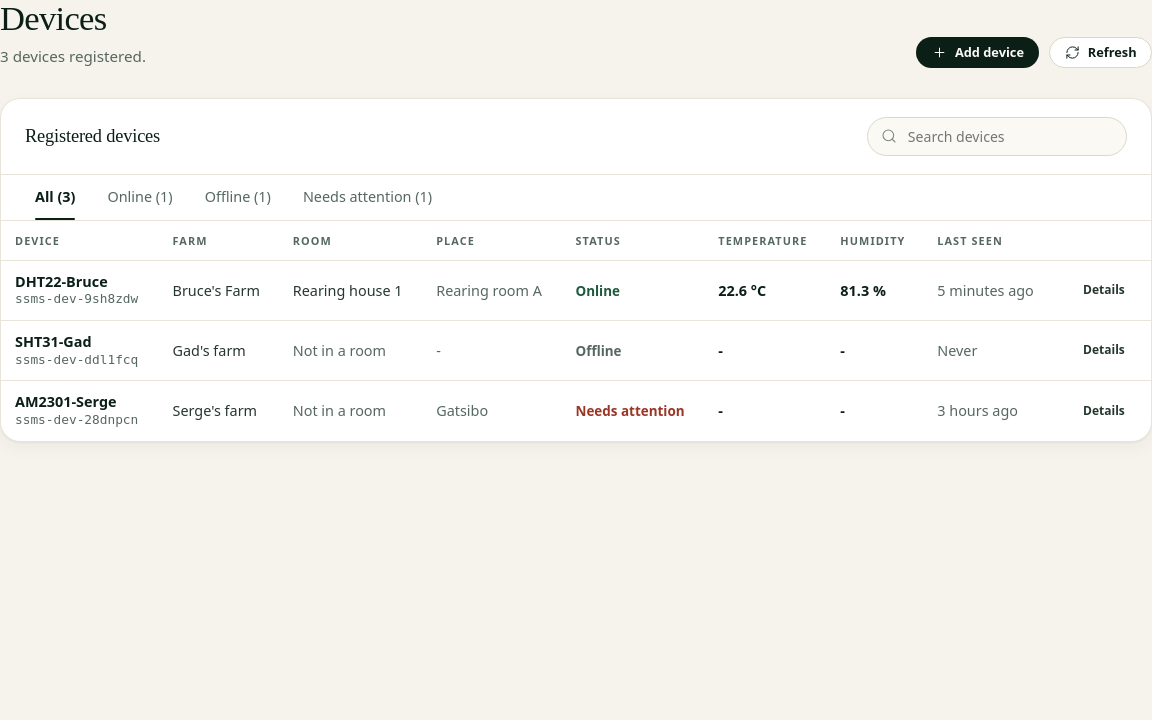
Test: Devices page › opens the details with the latest reading and a table of recent ones
What coordinates should you click on to do the following:
click the button "Details" in the row of "DHT22-Bruce"
I would click on:
 (1104, 290)
Its box is x1=1071 y1=278 x2=1137 y2=303.
(page scrolled)
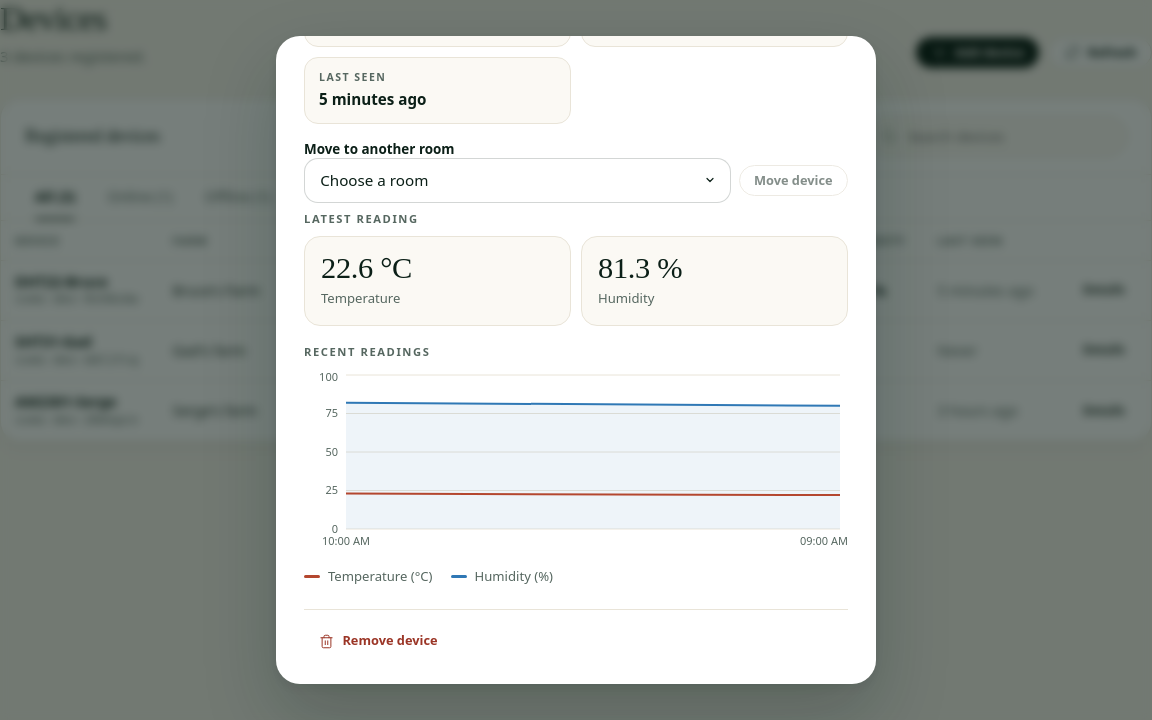
Expected: the text "22.6 °C" is shown, x1=321 y1=251 x2=412 y2=285
Expected: the picture "Recent readings" is shown, x1=304 y1=369 x2=848 y2=587
